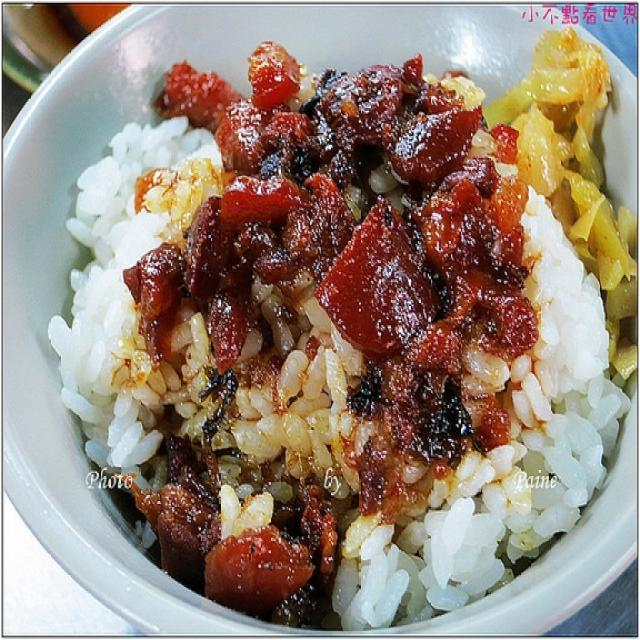猪肉菜式: (6, 5, 631, 628)
